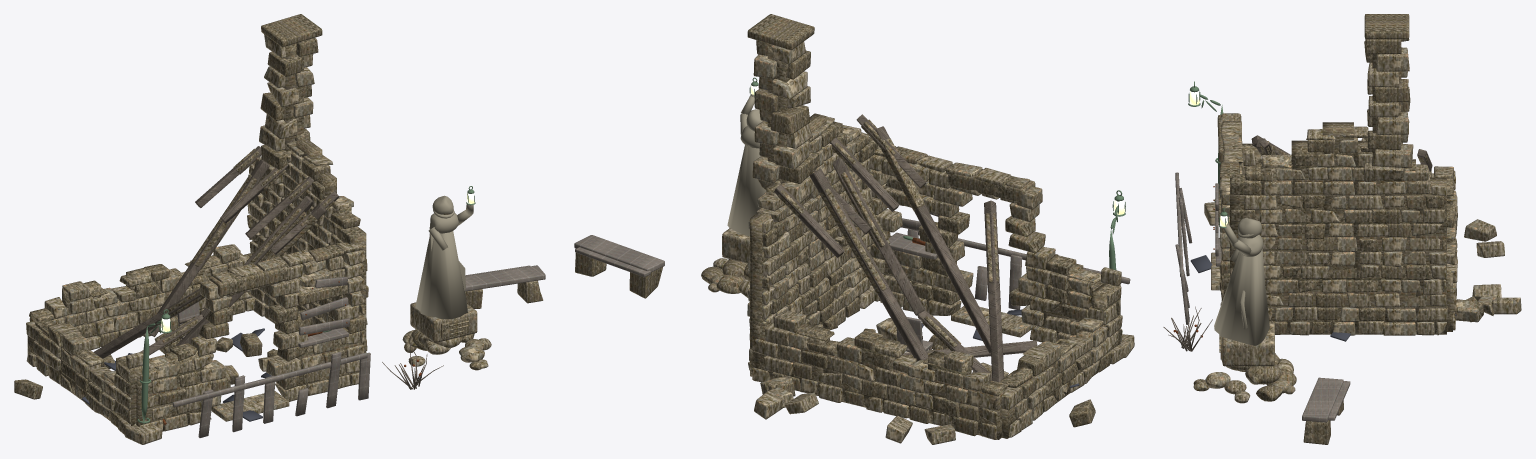
The model's file is widow_memorial.glb.
3 renders of one model, left to right at view 1: azimuth 30°, elevation 25°; view 2: azimuth 150°, elevation 25°; view 3: azimuth 270°, elevation 25°, orthographic. The views are drawn at different scales.
Parts seen in each view (by area): view 1: widow_memorial; view 2: widow_memorial; view 3: widow_memorial.
Boxes of the visible parts, x1=… form: widow_memorial: x1=14, y1=14, x2=545, y2=444; widow_memorial: x1=574, y1=14, x2=1134, y2=444; widow_memorial: x1=1163, y1=14, x2=1521, y2=444.
Size of the model in its own units: 9.76 by 5.67 by 5.79.
7 materials, 6 textured.
